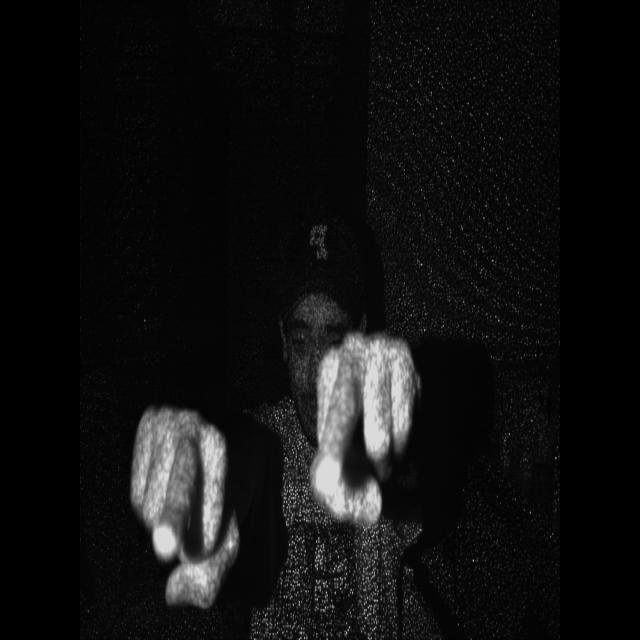FUCK YOU: (121, 375, 259, 623), (304, 326, 438, 544)
